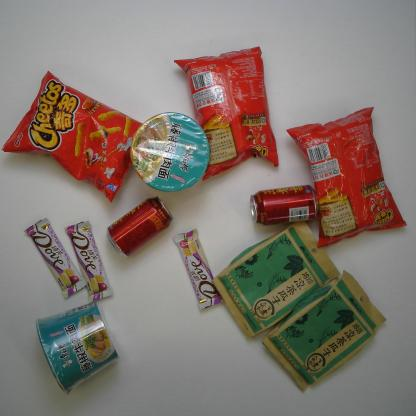Chocolate: (23, 216, 88, 300), (171, 227, 225, 312), (63, 218, 114, 304)
Dried Food: (260, 268, 388, 393), (212, 220, 342, 340)
Drink: (104, 194, 174, 259), (249, 183, 320, 227)
Instant Noodles: (35, 301, 121, 396), (129, 111, 211, 193)
Puffed Food: (0, 69, 144, 205), (285, 106, 408, 250), (172, 46, 279, 183)
